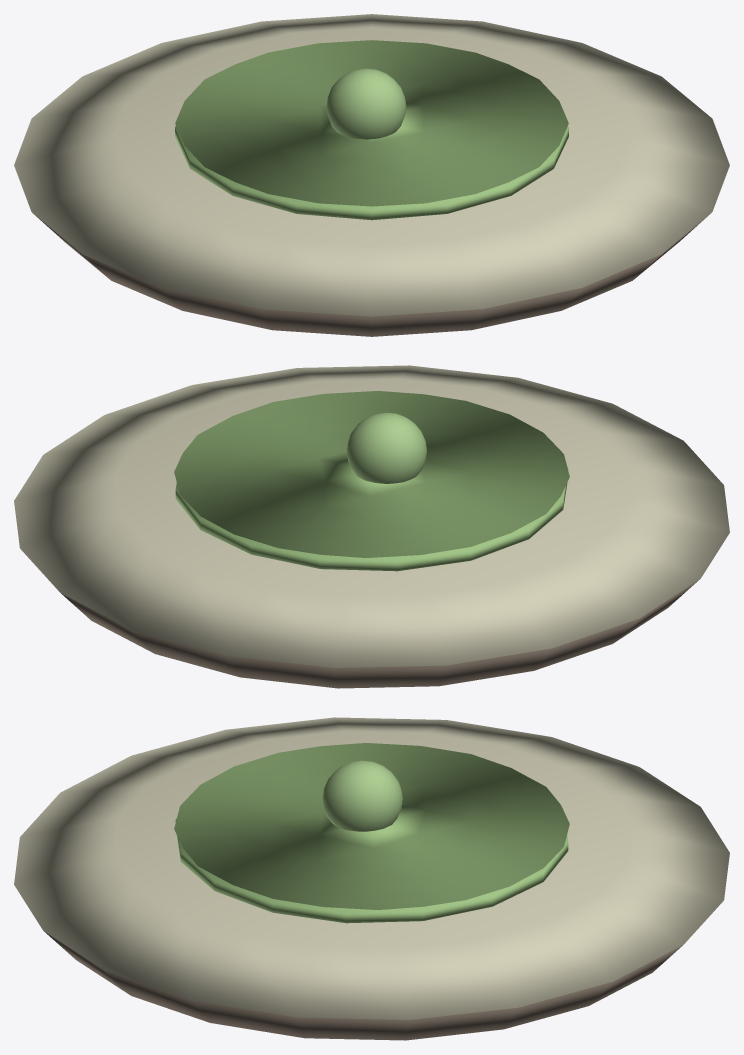
The model's file is terrain_island_07.glb.
3 views of the same model, one above another, from view 1: azimuth 30°, elevation 25°; view 2: azimuth 150°, elevation 25°; view 3: azimuth 270°, elevation 25° (orthographic).
Visible parts, largest first — view 1: island_sand, island_grass_dome, island_base, island_grass_base, hill0; view 2: island_sand, island_grass_dome, island_base, island_grass_base, hill0; view 3: island_sand, island_grass_dome, island_base, island_grass_base, hill0.
Boxes of the visible parts, x1,y1,x2,y2 form: island_sand: (14, 14, 729, 316); island_grass_dome: (175, 40, 568, 206); island_base: (33, 213, 710, 336); island_grass_base: (175, 126, 568, 220); hill0: (326, 68, 406, 139); island_sand: (14, 365, 729, 667); island_grass_dome: (174, 391, 569, 557); island_base: (61, 579, 699, 688); island_grass_base: (175, 457, 568, 571); hill0: (346, 412, 426, 483); island_sand: (14, 717, 729, 1019); island_grass_dome: (174, 743, 569, 909); island_base: (44, 931, 682, 1040); island_grass_base: (175, 809, 568, 923); hill0: (322, 760, 402, 831).
Size of the model in its own units: 109 by 22.78 by 109.
